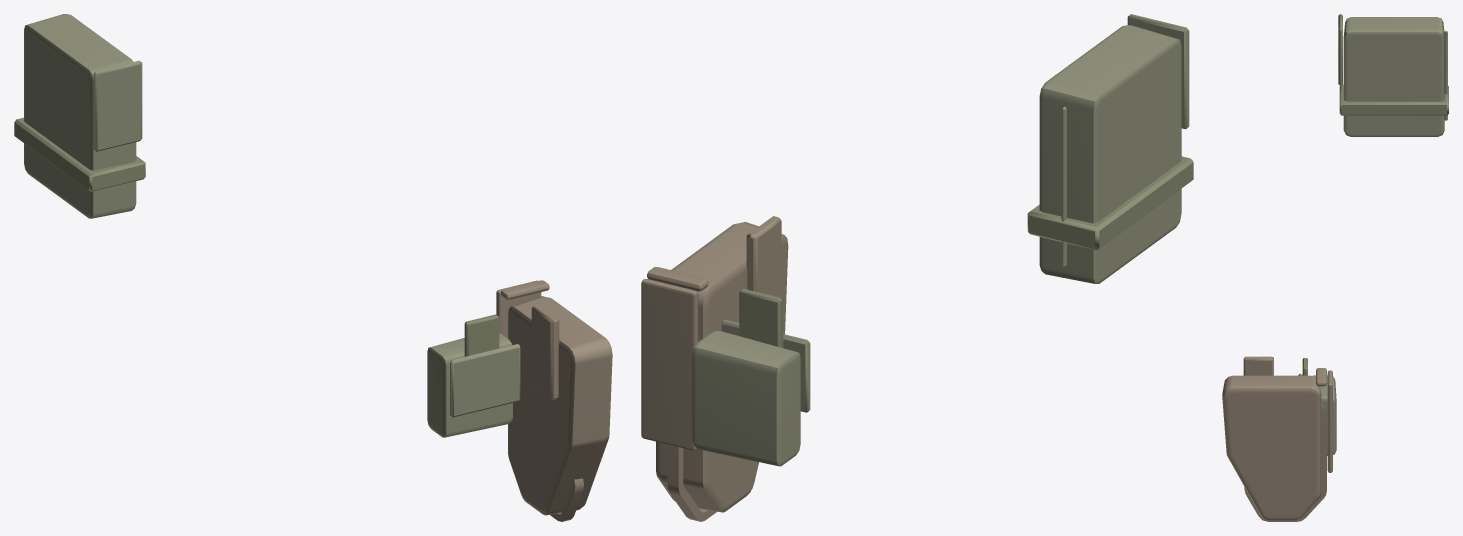
File: rig_open.glb
3 renders of one model, left to right at view 1: azimuth 30°, elevation 25°; view 2: azimuth 150°, elevation 25°; view 3: azimuth 270°, elevation 25°, orthographic. The views are drawn at different scales.
Parts seen in each view (by area): view 1: holster, pouch, pocket, pocket_flap_open, pouch_flap_open, holster_flap_open; view 2: pouch, pocket, holster, holster_flap_open, pouch_flap_open, pocket_flap_open; view 3: holster, pouch, holster_flap_open, pocket, pouch_flap_open.
Boxes of the visible parts, x1,y1,x2,y2 form: holster: (508, 296, 612, 521); pouch: (14, 14, 145, 218); pocket: (427, 314, 512, 437); pocket_flap_open: (450, 344, 520, 417); pouch_flap_open: (93, 60, 142, 151); holster_flap_open: (496, 280, 549, 338); pouch: (1027, 25, 1193, 283); pocket: (692, 289, 800, 466); holster: (656, 216, 788, 521); holster_flap_open: (641, 267, 708, 450); pouch_flap_open: (1127, 14, 1189, 129); pocket_flap_open: (721, 319, 810, 412); holster: (1222, 356, 1326, 521); pouch: (1339, 17, 1448, 136); holster_flap_open: (1316, 368, 1332, 472); pocket: (1302, 358, 1336, 455); pouch_flap_open: (1338, 14, 1342, 85).
Size of the model in its own units: 0.406 by 0.448 by 0.2536.
